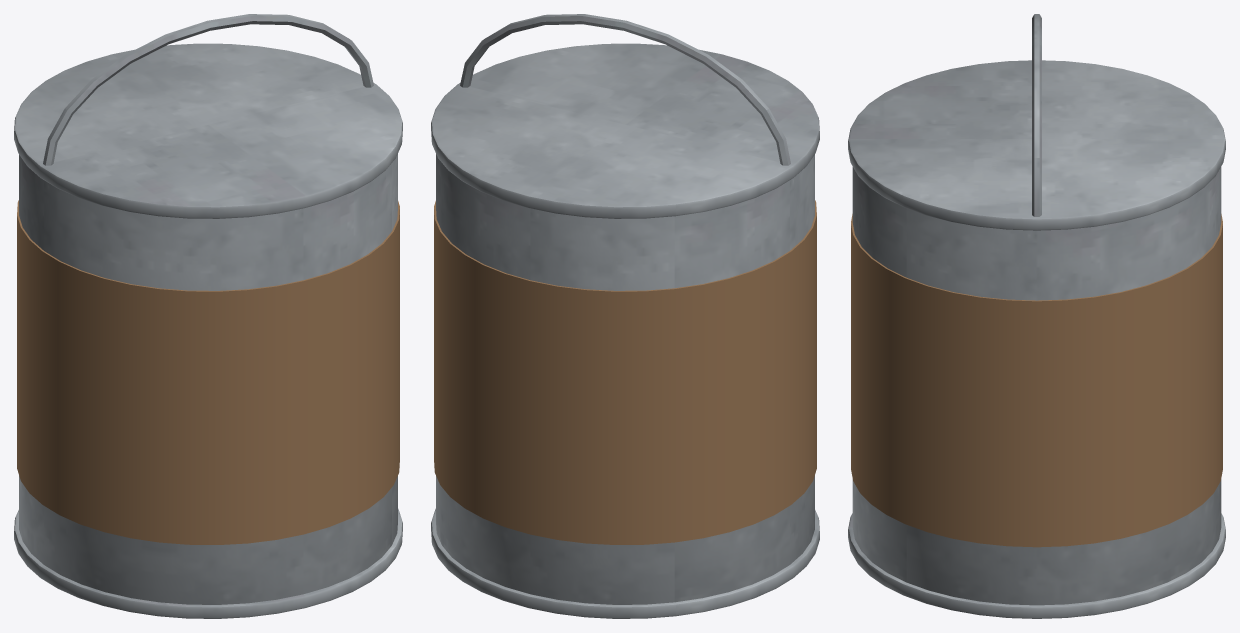
The model's file is IMP-LIQ-003.glb.
The picture shows the model from 3 angles, left to right: view 1: azimuth 30°, elevation 25°; view 2: azimuth 150°, elevation 25°; view 3: azimuth 270°, elevation 25°; orthographic projection. The views are drawn at different scales.
Visible parts, largest first — view 1: IMP-LIQ-003_rotulo, IMP-LIQ-003_aro, IMP-LIQ-003_lata, IMP-LIQ-003_aro2, IMP-LIQ-003_alca; view 2: IMP-LIQ-003_rotulo, IMP-LIQ-003_aro, IMP-LIQ-003_lata, IMP-LIQ-003_aro2, IMP-LIQ-003_alca; view 3: IMP-LIQ-003_rotulo, IMP-LIQ-003_aro, IMP-LIQ-003_lata, IMP-LIQ-003_aro2, IMP-LIQ-003_alca.
Part boxes in pixels (bbox=[...]): IMP-LIQ-003_rotulo: bbox=[17, 200, 399, 544]; IMP-LIQ-003_aro: bbox=[14, 43, 402, 218]; IMP-LIQ-003_lata: bbox=[19, 154, 397, 604]; IMP-LIQ-003_aro2: bbox=[14, 508, 402, 618]; IMP-LIQ-003_alca: bbox=[43, 14, 373, 165]; IMP-LIQ-003_rotulo: bbox=[434, 200, 816, 544]; IMP-LIQ-003_aro: bbox=[431, 43, 819, 218]; IMP-LIQ-003_lata: bbox=[436, 154, 814, 604]; IMP-LIQ-003_aro2: bbox=[431, 508, 819, 618]; IMP-LIQ-003_alca: bbox=[460, 14, 790, 165]; IMP-LIQ-003_rotulo: bbox=[851, 214, 1222, 547]; IMP-LIQ-003_aro: bbox=[848, 60, 1225, 230]; IMP-LIQ-003_lata: bbox=[852, 167, 1221, 605]; IMP-LIQ-003_aro2: bbox=[848, 513, 1225, 618]; IMP-LIQ-003_alca: bbox=[1032, 14, 1041, 216].
Bounding box in the file's own units: 0.164 × 0.2399 × 0.164.
3 materials, 1 textured.
